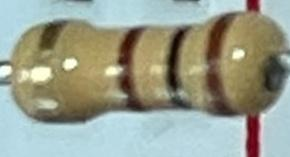Black: (165, 22, 195, 110)
Brown: (204, 11, 244, 117), (116, 26, 148, 112)
Side-Gold: (35, 19, 79, 124)
